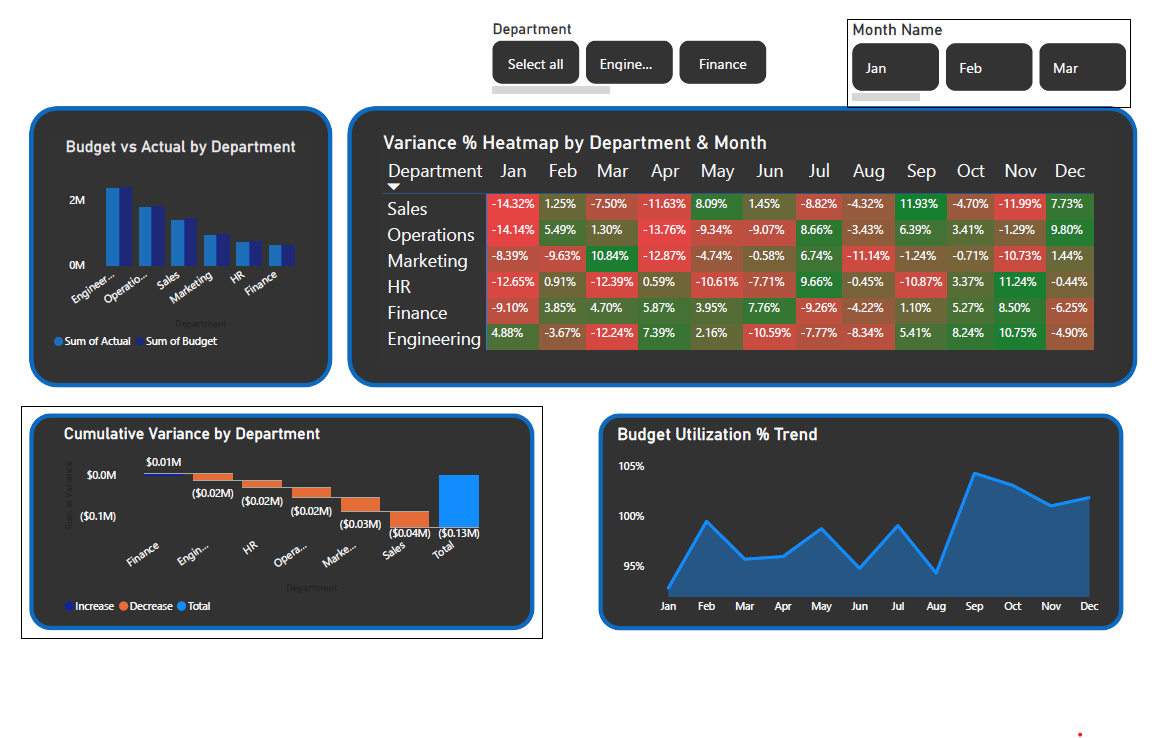

The dashboard page shown, as its layout file describes it:
{"tool":"powerbi","page":{"name":"Budget vs Actuals Deep Dive","canvas":[1280,720],"ordinal":1},"visuals":[{"type":"shape","box":[358.4,88.8,904.1,333.7],"z":0},{"type":"pivotTable","title":"Variance % Heatmap by Department & Month","fields":{"Rows":["Budget_vs_Actuals.Department"],"Columns":["DateTable.Month Name"],"Values":["Measures (2).Variance %"]},"box":[401.1,124.9,823.6,263],"z":1000},{"type":"shape","box":[0,88.8,358.4,333.7],"z":2000},{"type":"clusteredColumnChart","title":"Budget vs Actual by Department","fields":{"Category":["Budget_vs_Actuals.Department"],"Y":["Sum(Budget_vs_Actuals.Actual)","Sum(Budget_vs_Actuals.Budget)"]},"box":[31.2,131.5,295.9,248.2],"z":3000},{"type":"shape","box":[0,434,585.2,261.4],"z":4000},{"type":"waterfallChart","title":"Cumulative Variance by Department","fields":{"Category":["Budget_vs_Actuals.Department"],"Y":["Sum(Budget_vs_Actuals.Variance)"]},"box":[42.7,453.7,498.1,223.6],"z":5000},{"type":"shape","box":[639.5,434,606.6,261.4],"z":6000},{"type":"lineChart","title":"Budget Utilization % Trend","fields":{"Y":["Measures (2).Budget Utilization %"],"Category":["DateTable.Month Name"]},"box":[664.1,453.7,557.3,223.6],"z":7000},{"type":"advancedSlicerVisual","fields":{"Values":["Budget_vs_Actuals.Department"]},"box":[524.4,0,318.9,90.4],"z":7001},{"type":"advancedSlicerVisual","fields":{"Values":["DateTable.Month Name"]},"box":[927.1,0,318.9,98.6],"z":7002}]}

Visuals, with their boxes on the page's 1280x720 design canvas (x1, y1, x2, y2). These are canvas units, not pixel positions in the 1164x738 screenshot, which may show the page scaled, cropped or inside an application window:
shape: (358,89,1262,422)
"Variance % Heatmap by Department & Month" pivotTable: (401,125,1225,388)
shape: (0,89,358,422)
"Budget vs Actual by Department" clusteredColumnChart: (31,132,327,380)
shape: (0,434,585,695)
"Cumulative Variance by Department" waterfallChart: (43,454,541,677)
shape: (640,434,1246,695)
"Budget Utilization % Trend" lineChart: (664,454,1221,677)
advancedSlicerVisual - Budget_vs_Actuals.Department: (524,0,843,90)
advancedSlicerVisual - DateTable.Month Name: (927,0,1246,99)
